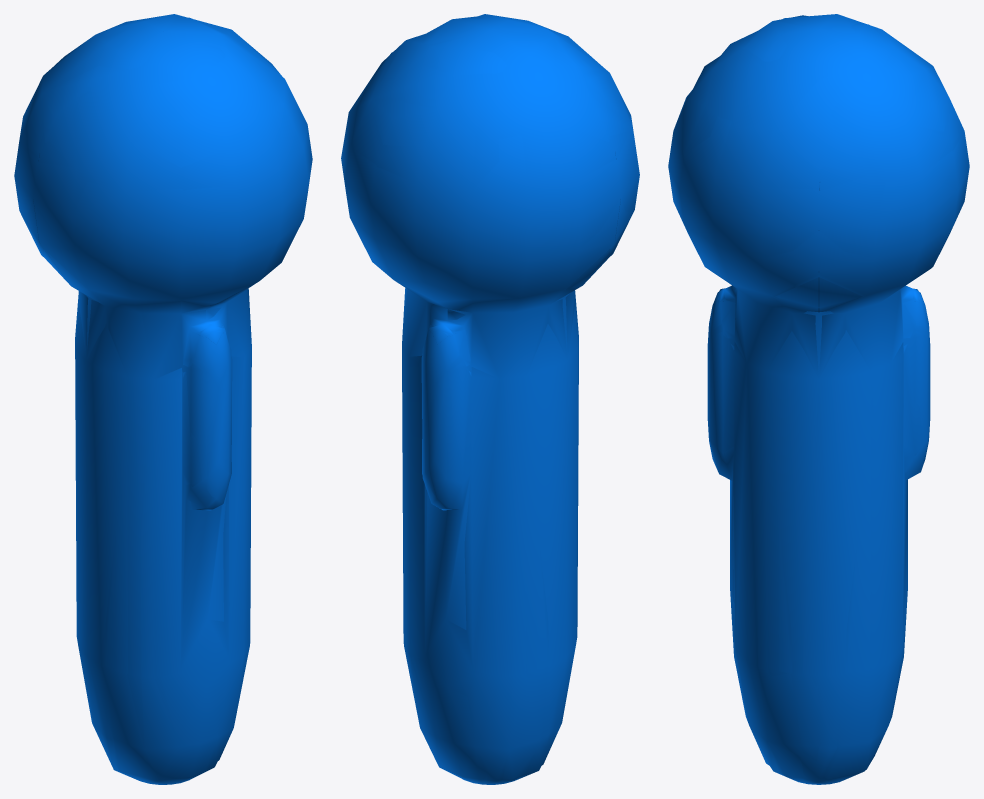
File: NPC.fbx
The picture shows the model from 3 angles, left to right: view 1: azimuth 30°, elevation 25°; view 2: azimuth 150°, elevation 25°; view 3: azimuth 270°, elevation 25°; orthographic projection.
Parts seen in each view (by area): view 1: Cylinder; view 2: Cylinder; view 3: Cylinder.
Part boxes in pixels (box(x1,y1,x2,y2)): Cylinder: box(14, 14, 312, 784); Cylinder: box(341, 14, 639, 784); Cylinder: box(668, 14, 969, 784).
Bounding box in the file's own units: 200 × 542 × 200.
1 material, 1 textured.
